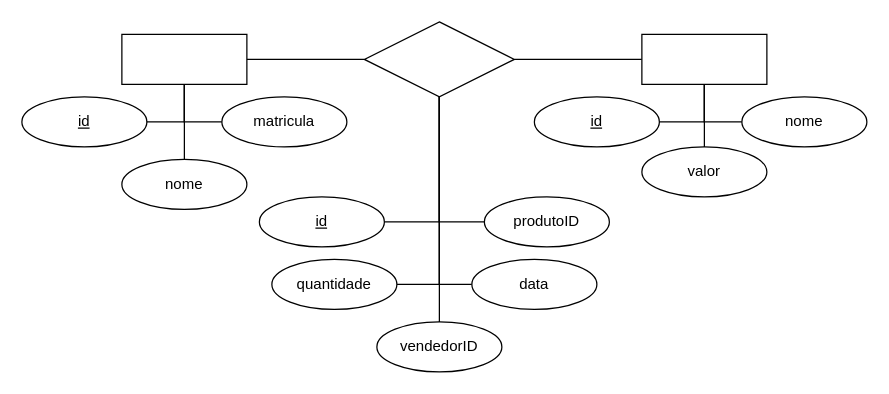
The diagram is 889 pixels wide and 394 high, and some of its shapes have lost their labels. The shapes that lost their labels are listed below. From the top down, each one's centre as x and y in pixels, then its label:
At point 184,58: "vendedor".
At point 438,59: "vende".
At point 704,58: "produto".
